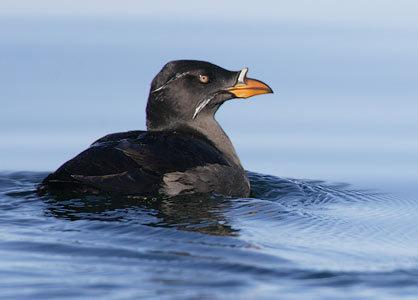008.Rhinoceros_Auklet: (36, 58, 274, 224)
